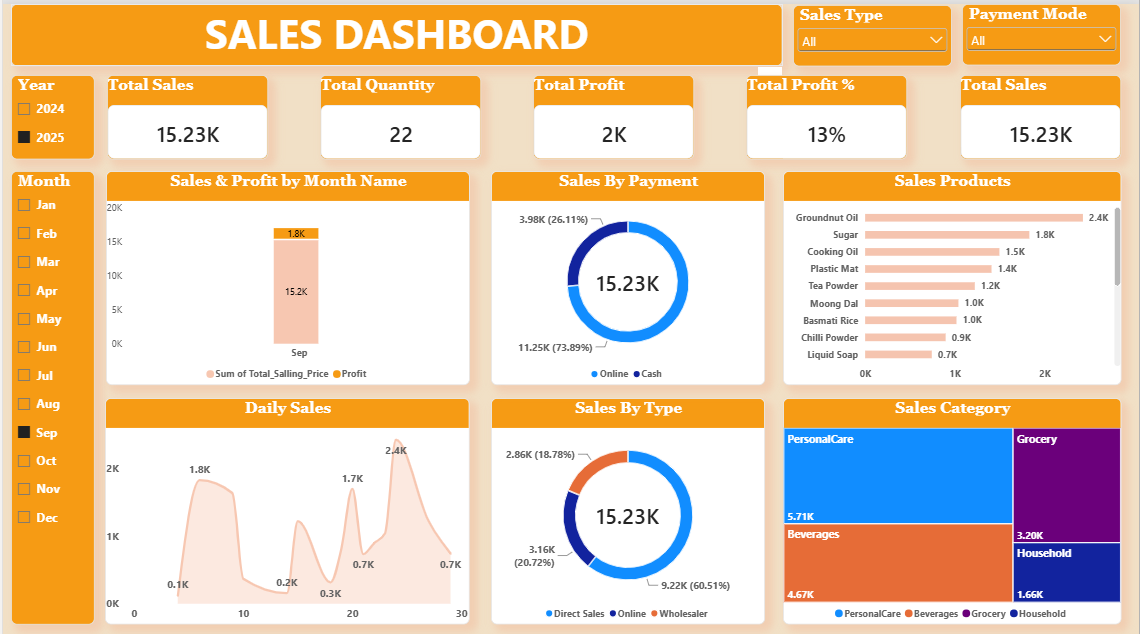

What the dashboard file says about the page in this screenshot:
{"tool":"powerbi","page":{"name":"Page 1","canvas":[1480,820],"ordinal":0},"visuals":[{"type":"textbox","box":[10.8,0,1004.8,80.7],"z":0},{"type":"slicer","fields":{"Values":["InputData.Year"]},"box":[10.3,93.1,109,110],"z":1000},{"type":"slicer","fields":{"Values":["InputData.Month Name"]},"box":[10.5,217.4,108.7,590.9],"z":2000},{"type":"slicer","fields":{"Values":["InputData.PAYMENT MODE"]},"box":[1248.9,0,206.8,79.5],"z":3000},{"type":"slicer","fields":{"Values":["InputData.SALE TYPE"]},"box":[1028.9,1.2,206.8,79.5],"z":4000},{"type":"cardVisual","title":"Total Sales","fields":{"Data":["Sum(InputData.Total_Salling_Price)"]},"box":[134.9,92.8,210,110],"z":5000},{"type":"cardVisual","title":"Total Quantity","fields":{"Data":["Sum(InputData.QUANTITY)"]},"box":[412.8,92.5,210,110],"z":6000},{"type":"cardVisual","title":"Total Profit","fields":{"Data":["InputData.Profit"]},"box":[690.6,92.5,210,110],"z":7000},{"type":"cardVisual","title":"Total Profit %","fields":{"Data":["InputData.Profit %"]},"box":[968.4,92.5,210,110],"z":8000},{"type":"cardVisual","title":"Total Sales","fields":{"Data":["Sum(InputData.Total_Salling_Price)"]},"box":[1246.3,92.5,210,110],"z":9000},{"type":"columnChart","title":"Sales & Profit by Month Name","fields":{"Category":["InputData.Month Name"],"Y":["Sum(InputData.Total_Salling_Price)","InputData.Profit"]},"box":[134.6,217.3,474.1,279],"z":10000},{"type":"areaChart","title":"Daily Sales","fields":{"Category":["InputData.Day"],"Y":["Sum(InputData.Total_Salling_Price)"]},"box":[133.3,513.6,475.3,295.1],"z":11000},{"type":"clusteredBarChart","title":"Sales Products","fields":{"Category":["InputData.MasterData.PRODUCT"],"Y":["Sum(InputData.Total_Salling_Price)"]},"box":[1016,217.3,440.7,279],"z":12000},{"type":"treemap","title":"Sales Category","fields":{"Group":["InputData.MasterData.CATEGORY"],"Values":["Sum(InputData.Total_Salling_Price)"]},"box":[1016,513.6,440.7,295.1],"z":13000},{"type":"donutChart","title":"Sales By Type","fields":{"Category":["InputData.SALE TYPE"],"Y":["Sum(InputData.Total_Salling_Price)"]},"box":[635.8,513.6,356.8,295.1],"z":14000},{"type":"donutChart","title":"Sales By Payment","fields":{"Category":["InputData.PAYMENT MODE"],"Y":["Sum(InputData.Total_Salling_Price)"]},"box":[635.8,217.3,356.8,279],"z":14001}]}

Visuals, with their boxes in screenshot pixels (x1, y1, x2, y2), scaled from the page's 1480x820 canvas onto the 1141x634 screenshot:
textbox: box=[8, 0, 783, 62]
slicer - InputData.Year: box=[8, 72, 92, 157]
slicer - InputData.Month Name: box=[8, 168, 92, 625]
slicer - InputData.PAYMENT MODE: box=[963, 0, 1122, 61]
slicer - InputData.SALE TYPE: box=[793, 1, 953, 62]
"Total Sales" cardVisual: box=[104, 72, 266, 157]
"Total Quantity" cardVisual: box=[318, 72, 480, 157]
"Total Profit" cardVisual: box=[532, 72, 694, 157]
"Total Profit %" cardVisual: box=[747, 72, 908, 157]
"Total Sales" cardVisual: box=[961, 72, 1123, 157]
"Sales & Profit by Month Name" columnChart: box=[104, 168, 469, 384]
"Daily Sales" areaChart: box=[103, 397, 469, 625]
"Sales Products" clusteredBarChart: box=[783, 168, 1123, 384]
"Sales Category" treemap: box=[783, 397, 1123, 625]
"Sales By Type" donutChart: box=[490, 397, 765, 625]
"Sales By Payment" donutChart: box=[490, 168, 765, 384]
